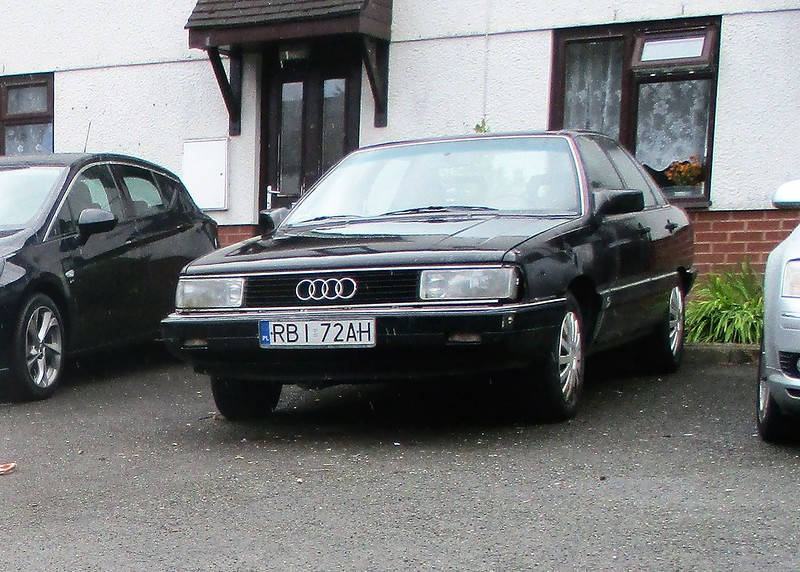number_plate: (253, 318, 399, 354)
